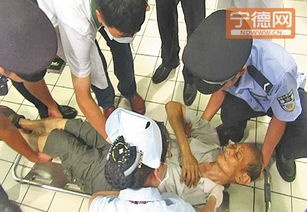falling: (132, 92, 271, 209)
